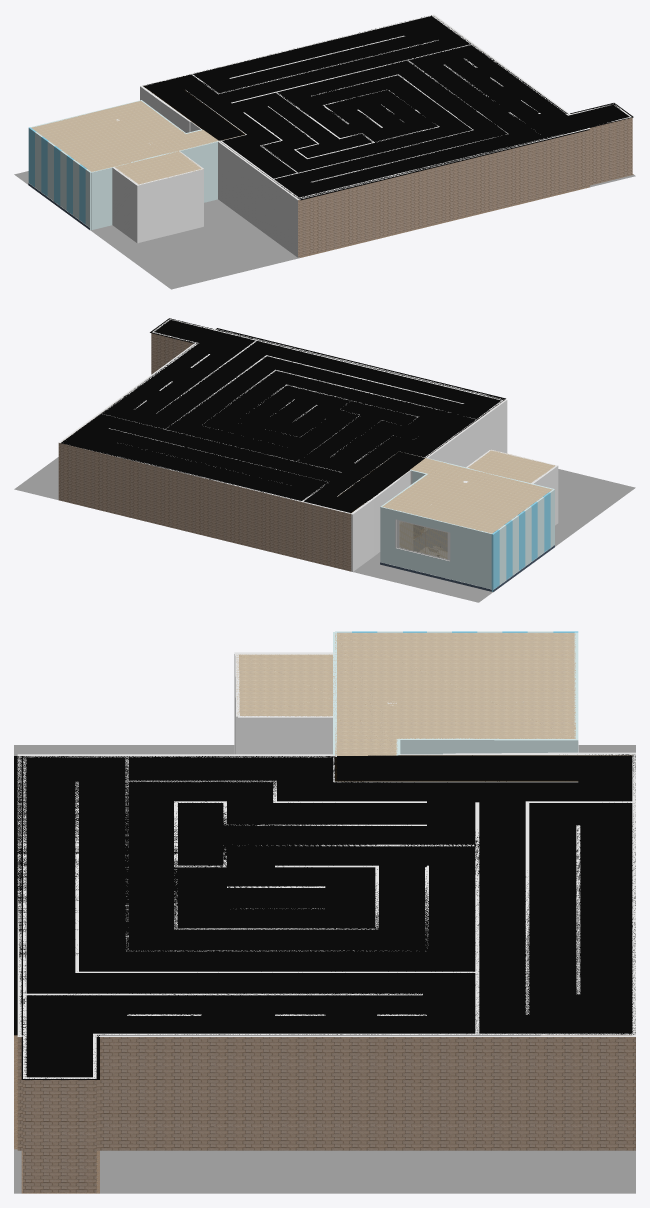
File: archivohabitacionparaunity.obj
3 views of the same model, one above another, from view 1: azimuth 30°, elevation 25°; view 2: azimuth 150°, elevation 25°; view 3: azimuth 270°, elevation 25° (orthographic). The views are drawn at different scales.
Visible parts, largest first — view 1: room_83_482, wall_60_353, ground_1, room_81_478, wall_61_359, wall_18_126, wall_74_437, wall_4_27, room_82_480, wall_17_119, room_84_484, room_83_481 (+1 smaller); view 2: room_83_482, wall_71_419, room_81_478, ground_1, wall_1_6, wall_70_413, wall_61_359, room_82_480, sweethome3d_window_pane_487, wall_55_323, wall_23_149, room_84_484 (+5 smaller); view 3: room_83_482, wall_58_341, ground_1, room_81_478, wall_24_155, room_82_480, wall_19_132, room_84_484, wall_2_13, wall_31_188, wall_26_164.
Part boxes in pixels (x1,y1,x2,y2): room_83_482: [143, 15, 589, 200]; wall_60_353: [298, 129, 590, 257]; ground_1: [14, 171, 635, 289]; room_81_478: [31, 101, 218, 171]; wall_61_359: [218, 142, 297, 257]; wall_18_126: [139, 169, 203, 242]; wall_74_437: [590, 117, 632, 184]; wall_4_27: [91, 142, 217, 230]; room_82_480: [115, 151, 203, 184]; wall_17_119: [112, 168, 138, 243]; room_84_484: [570, 103, 633, 127]; room_83_481: [300, 187, 589, 257]; room_83_482: [61, 328, 505, 512]; wall_71_419: [60, 443, 301, 559]; room_81_478: [382, 458, 552, 533]; ground_1: [14, 457, 635, 602]; wall_1_6: [380, 507, 491, 589]; wall_70_413: [301, 502, 351, 571]; wall_61_359: [428, 400, 507, 467]; room_82_480: [468, 450, 554, 483]; sweethome3d_window_pane_487: [399, 521, 447, 559]; wall_55_323: [353, 499, 373, 571]; wall_23_149: [151, 333, 193, 374]; room_84_484: [150, 318, 213, 343]; room_83_482: [14, 754, 635, 1035]; wall_58_341: [96, 1037, 635, 1150]; ground_1: [14, 745, 635, 1193]; room_81_478: [335, 633, 575, 755]; wall_24_155: [23, 1080, 96, 1192]; room_82_480: [236, 654, 334, 716]; wall_19_132: [238, 717, 332, 754]; room_84_484: [21, 1035, 99, 1079]; wall_2_13: [400, 740, 578, 754]; wall_31_188: [78, 971, 476, 972]; wall_26_164: [25, 994, 422, 995].
Bounding box in the file's own units: 2114 × 250 × 1237.
